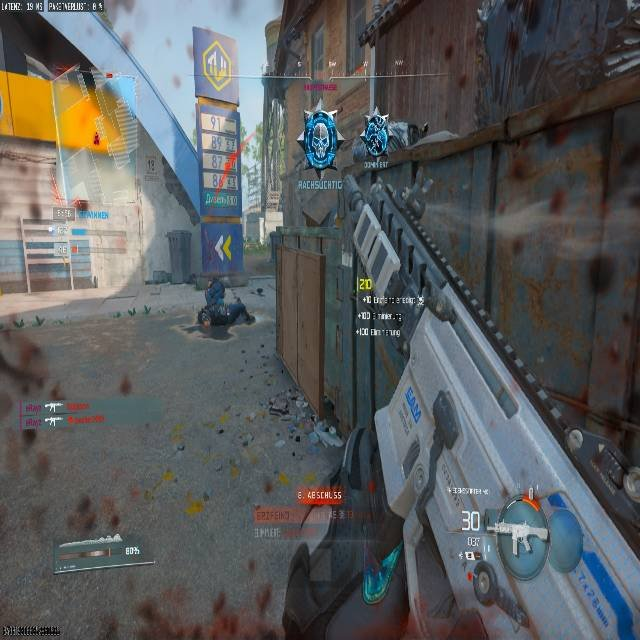head: (296, 109, 342, 169)
player: (197, 279, 253, 337)
